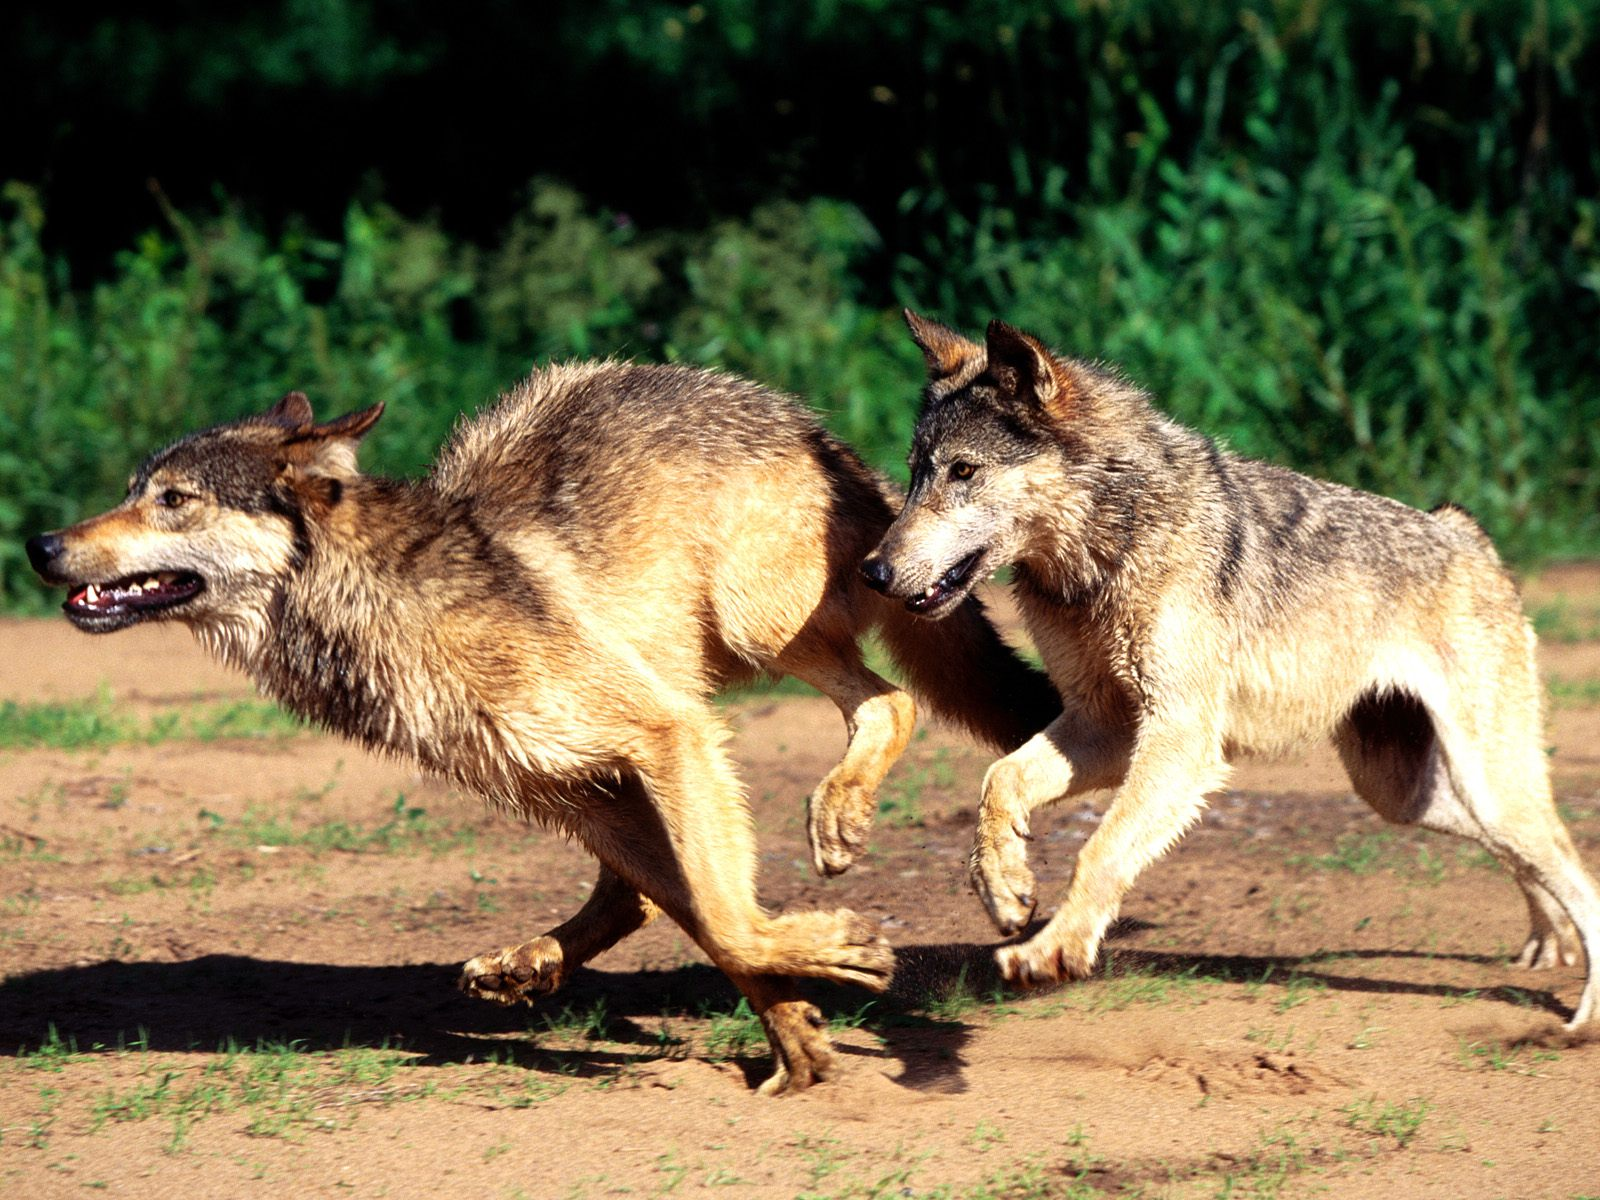Lobo: (21, 361, 884, 1044), (839, 291, 1552, 1020)
